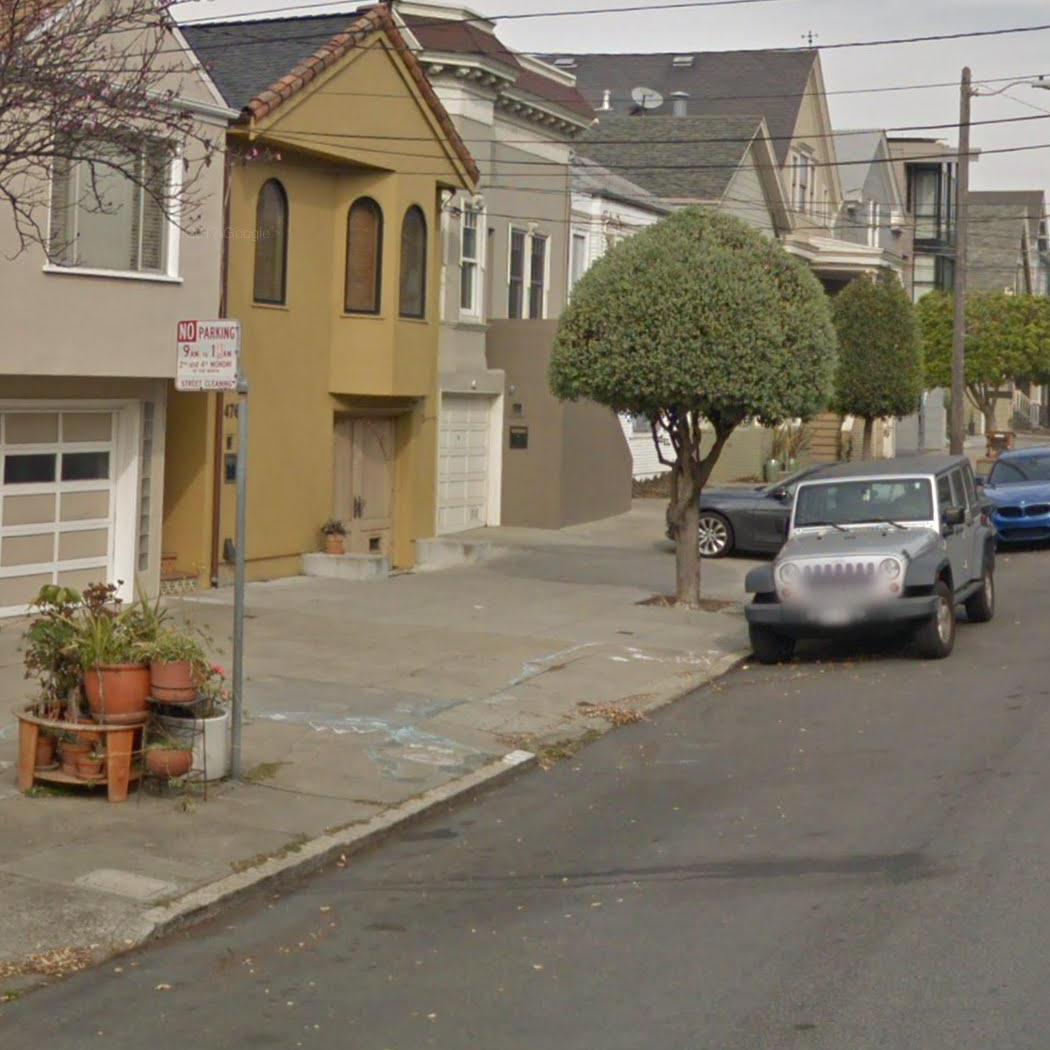No Parking: (171, 315, 241, 393)
